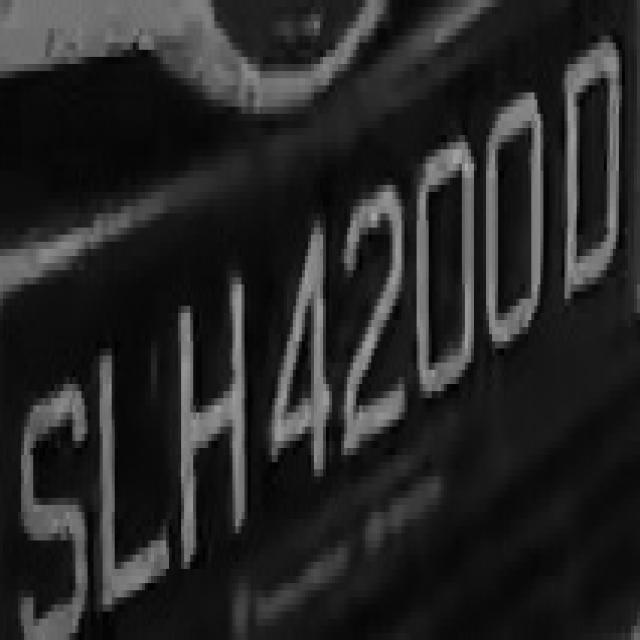0: (480, 92, 549, 362), (414, 135, 480, 413)
2: (332, 156, 414, 470)
4: (260, 185, 329, 491)
D: (552, 28, 622, 306)
H: (163, 249, 254, 583)
L: (88, 313, 169, 597)
S: (9, 356, 88, 604)
